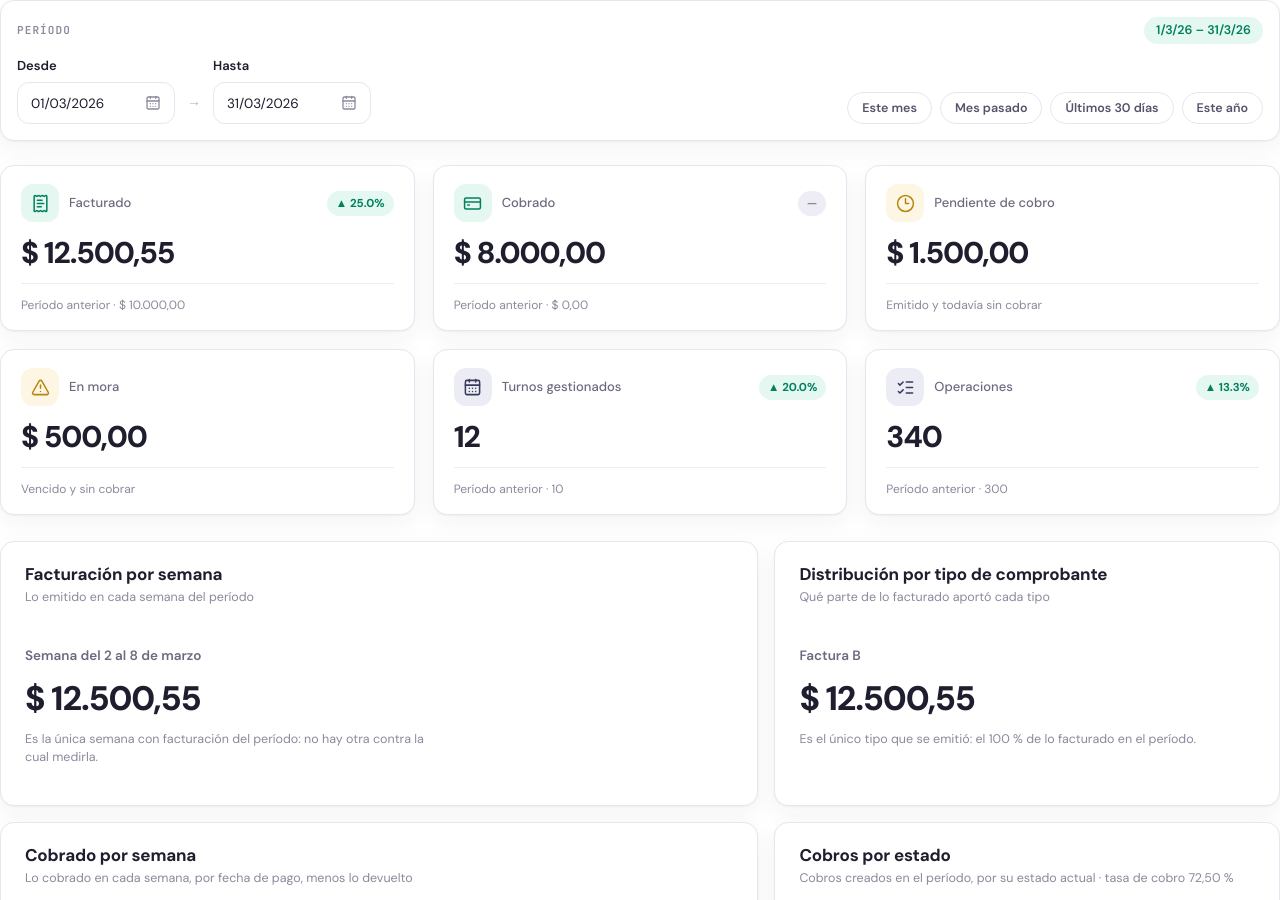
Scenario: PAN-REP-01 · el tablero › un fallo al filtrar se dice, no se traga
Click the button named "Hasta": point(292, 103) [213,82,371,124]
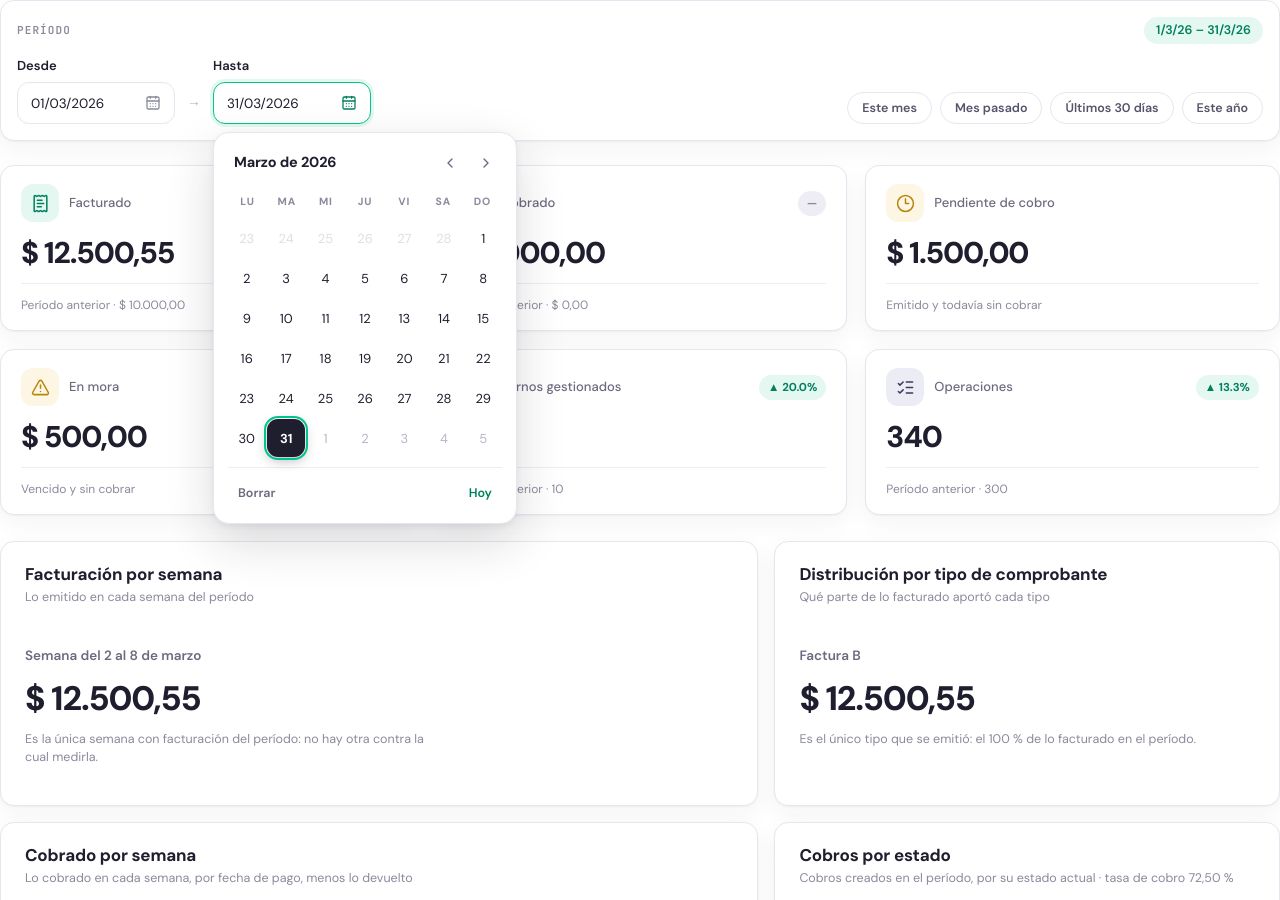
Click the button named "15 de marzo de 2026": point(483, 318) [465,299,502,337]
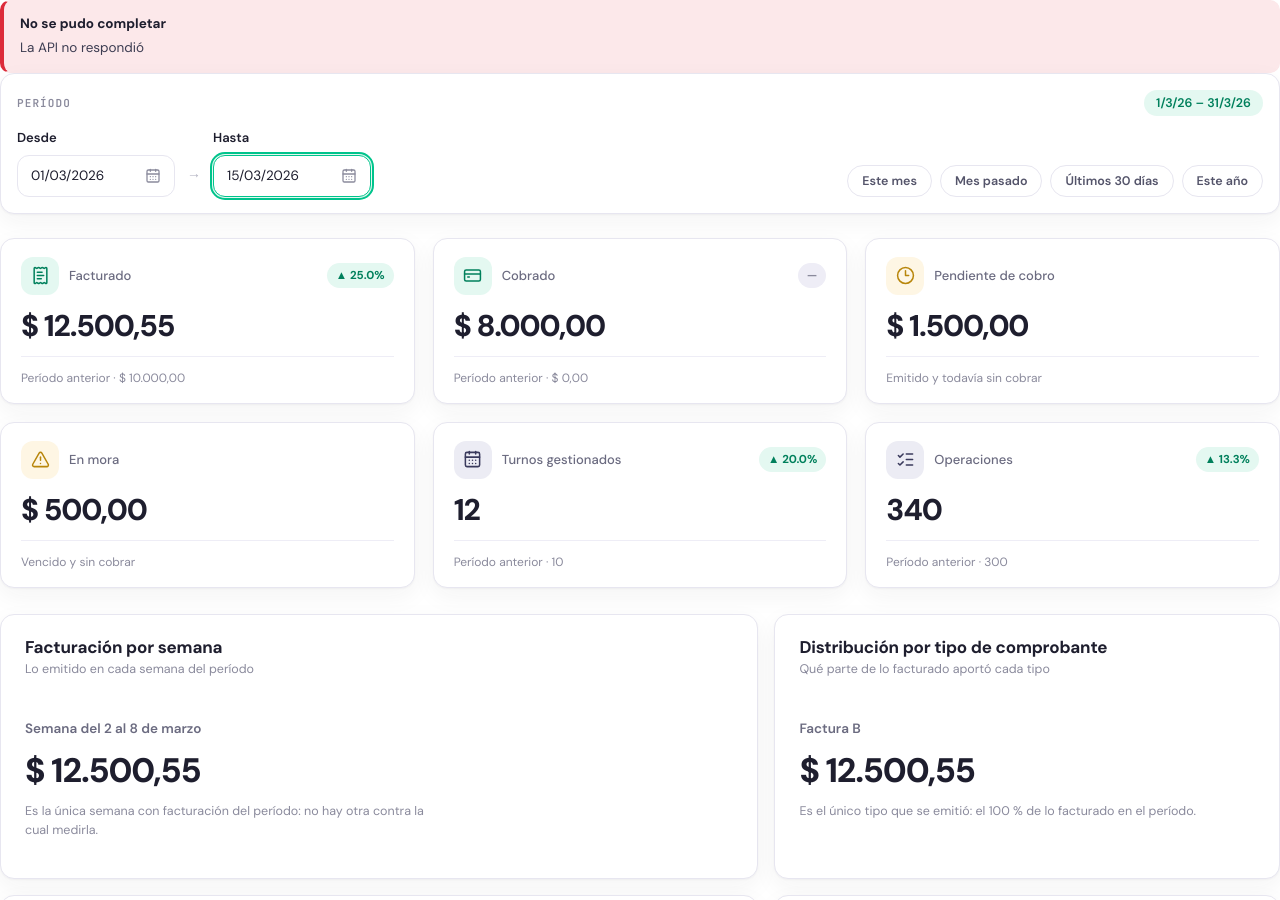
Now the text "La API no respondió" is shown, box [20,39,144,56]
